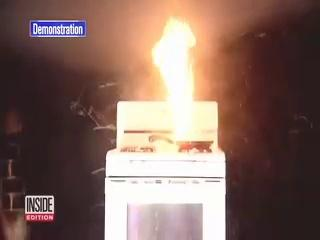Fire: (146, 1, 204, 143)
